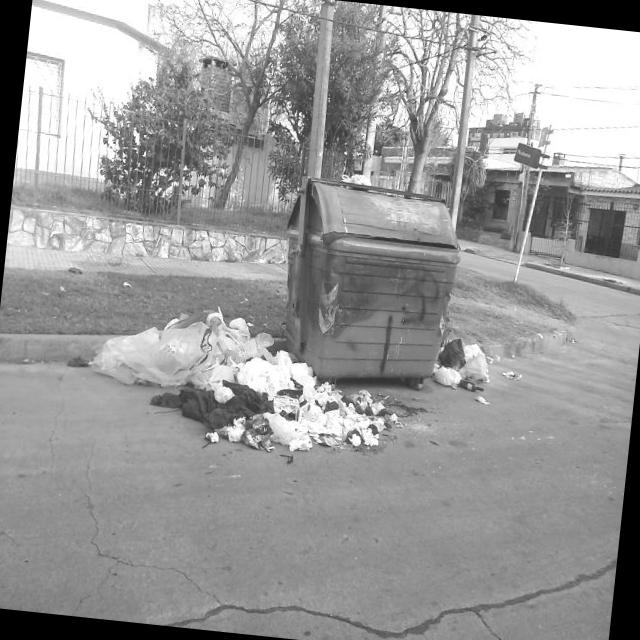high trash: (90, 311, 386, 450)
less trash: (432, 338, 489, 388)
